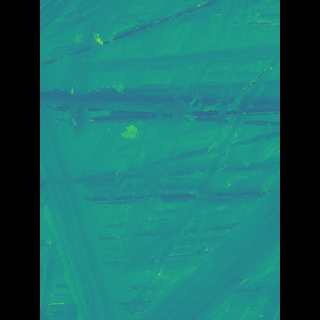Loch: (72, 4, 245, 314)
